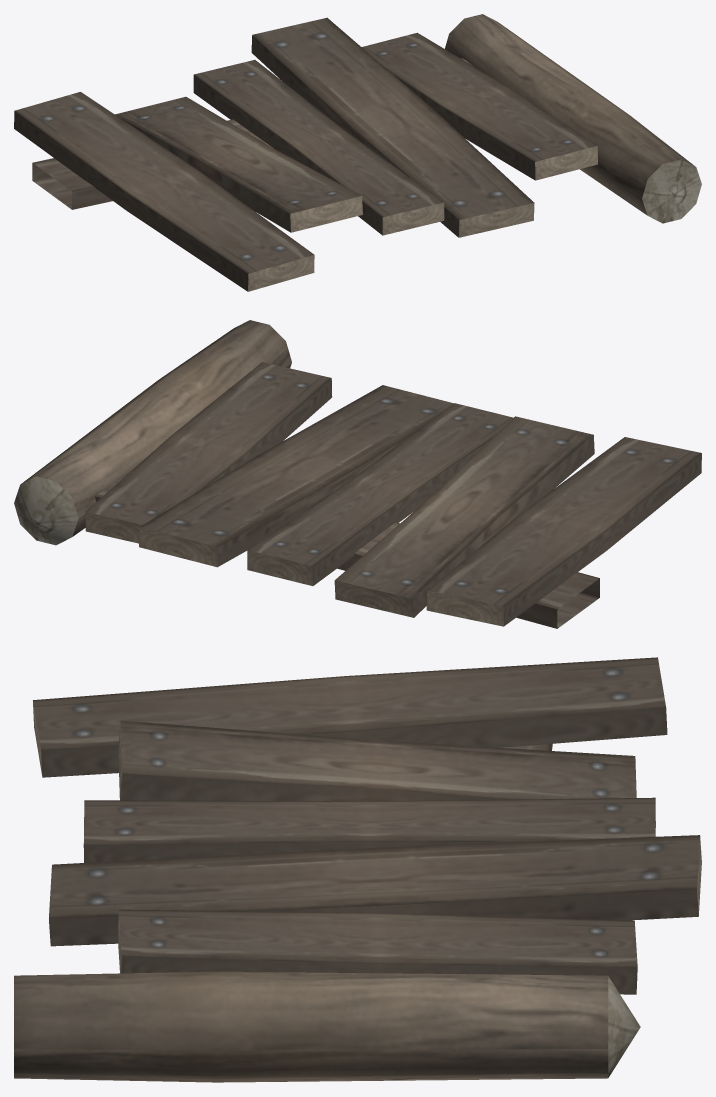
File: Fence_Type_02_A_Right.fbx
3 views of the same model, one above another, from view 1: azimuth 30°, elevation 25°; view 2: azimuth 150°, elevation 25°; view 3: azimuth 270°, elevation 25° (orthographic). The views are drawn at different scales.
Visible parts, largest first — view 1: Fence_Type_02_Right_A; view 2: Fence_Type_02_Right_A; view 3: Fence_Type_02_Right_A.
Part boxes in pixels (left/top/right/bottom): Fence_Type_02_Right_A: left=14, top=14, right=701, bottom=291; Fence_Type_02_Right_A: left=14, top=320, right=701, bottom=628; Fence_Type_02_Right_A: left=14, top=657, right=701, bottom=1082.
Bounding box in the file's own units: 2.06 × 0.2742 × 1.68.
